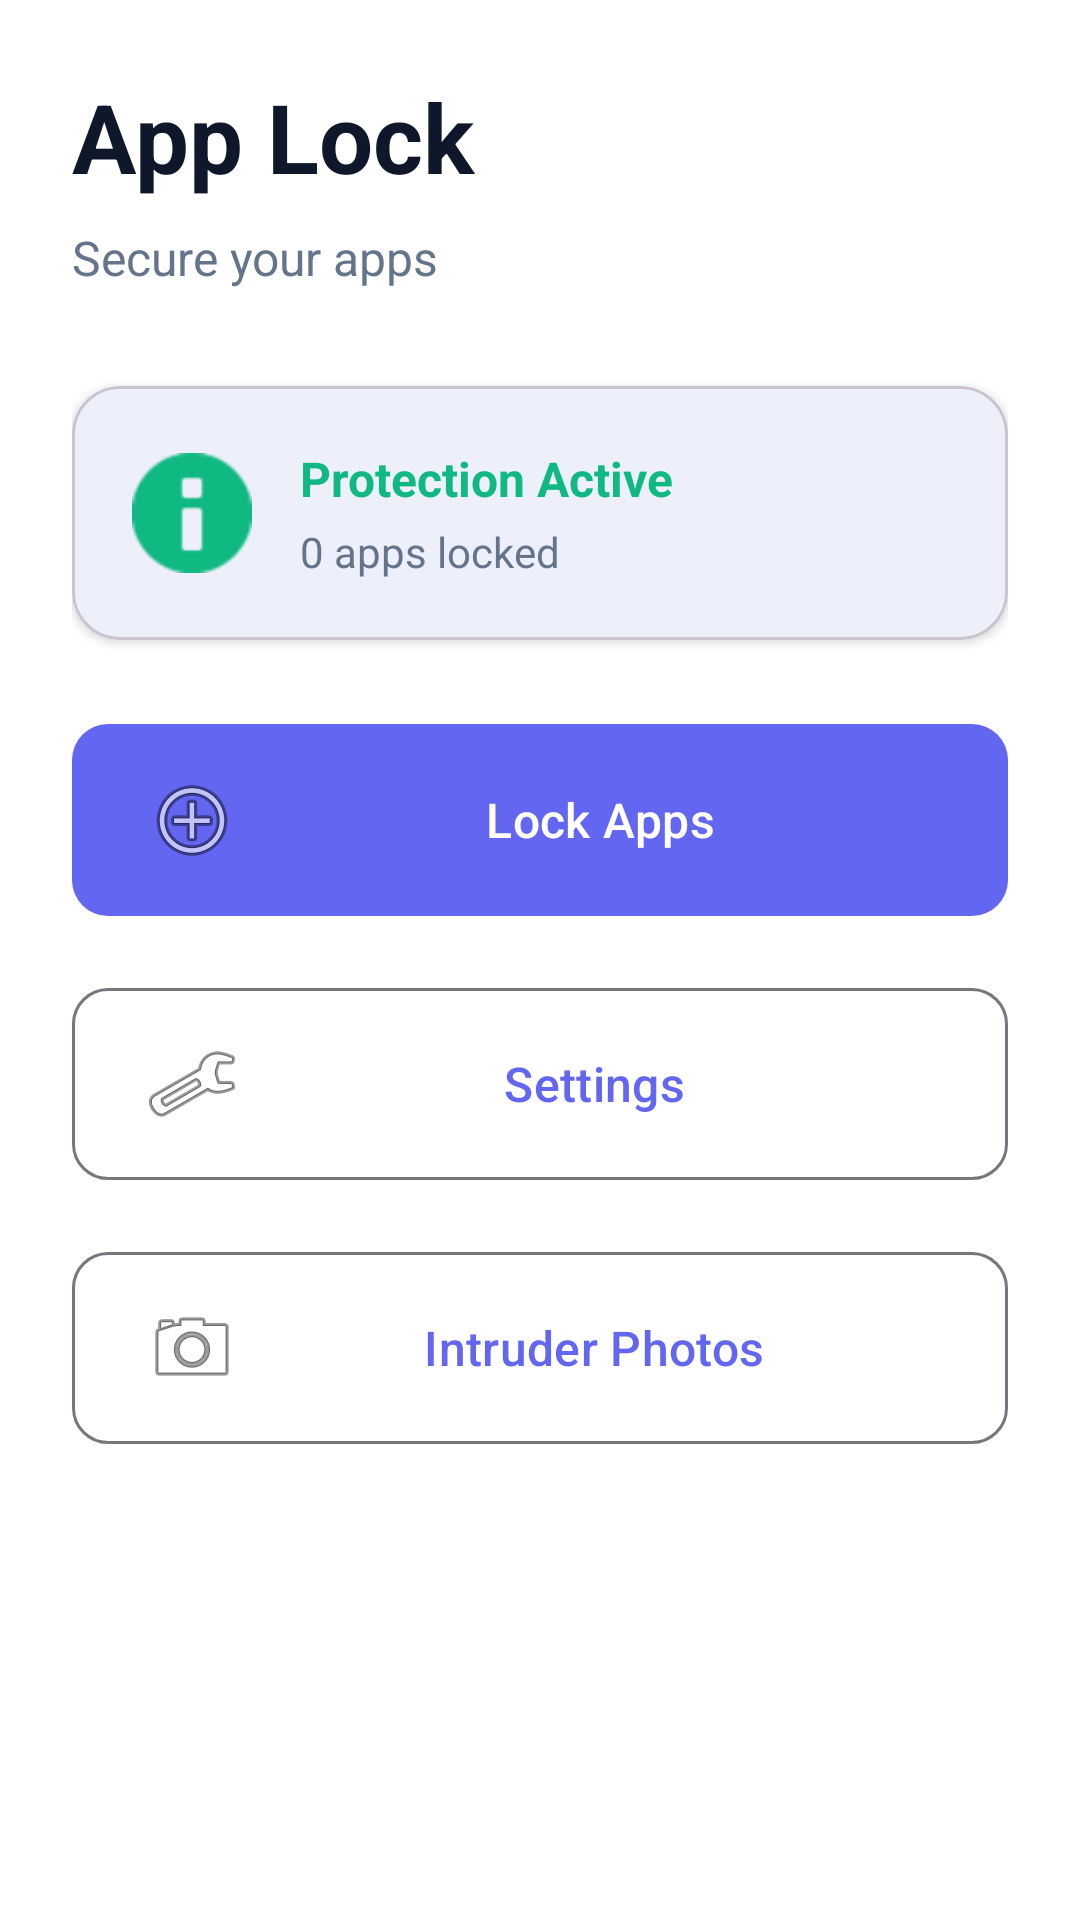

Icons on this 1080w x 1920h Android screen, each with the point to tap as (x=x, y=y):
info: (x=192, y=513)
